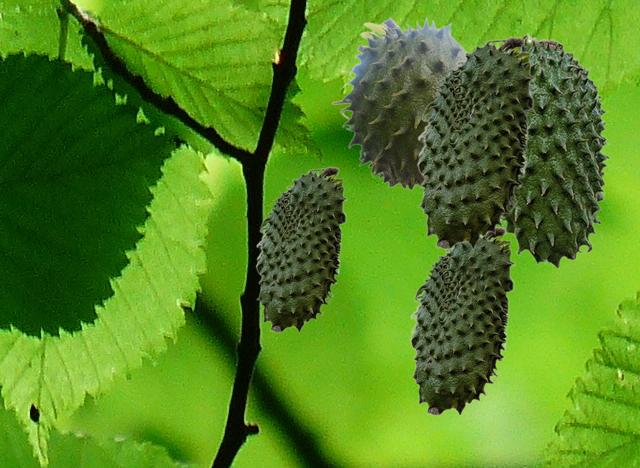guyabano: (502, 32, 610, 268), (416, 36, 534, 249), (331, 15, 465, 190), (409, 226, 514, 415), (255, 166, 346, 332)
